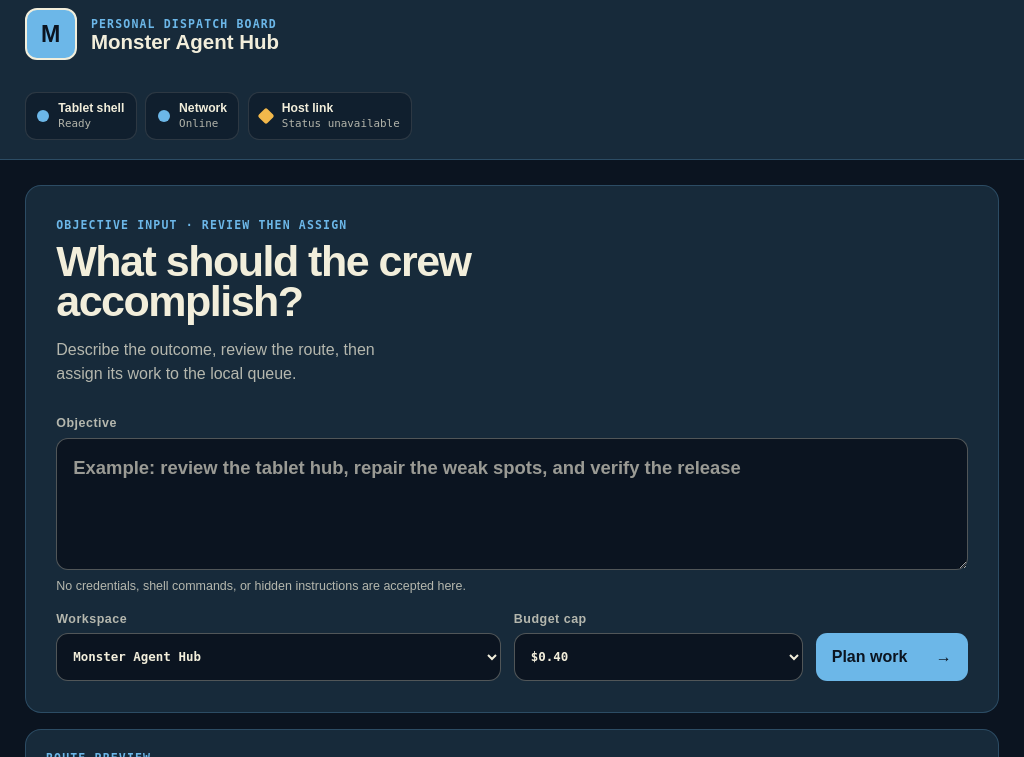
it: Monster Agent Hub tablet shell › turns an objective into a review-only delegation preview without starting work
The width and height of the screenshot is (1024, 757).
In the text box labelled "Objective": [512, 504] box [56,438,968,570], type "Audit the tablet hub, fix the accessibility issues, and verify the release."
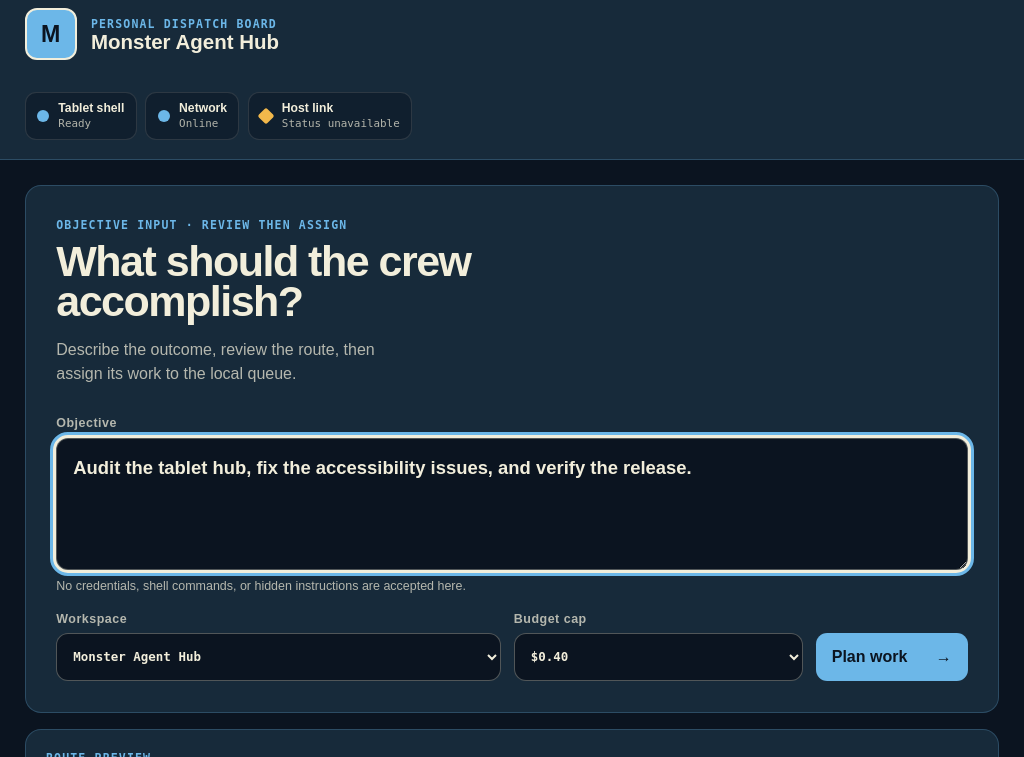
Click the button "Plan work →": [892, 657] box [816,633,968,681]
(page scrolled)
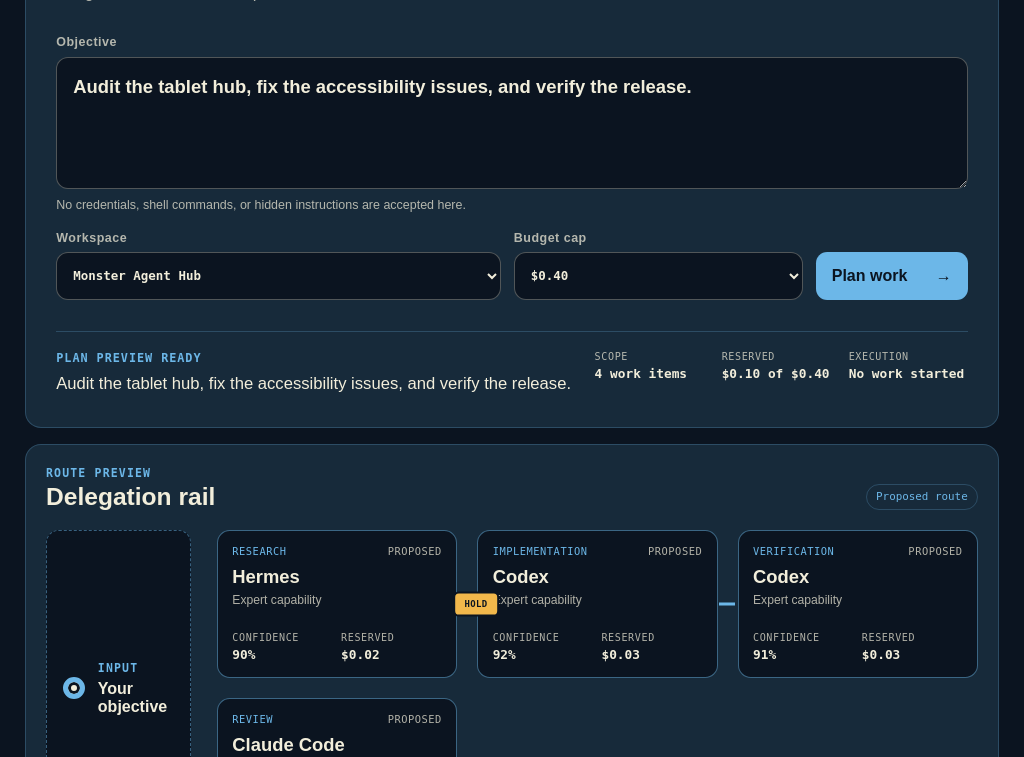
Expected: the text "Plan preview ready" is shown, [56,351,202,365]
Expected: the text "Audit the tablet hub, fix the accessibility issues, and verify the release." is shown, [56,372,579,396]
Expected: the text "No work started" is shown, [849,366,968,381]
